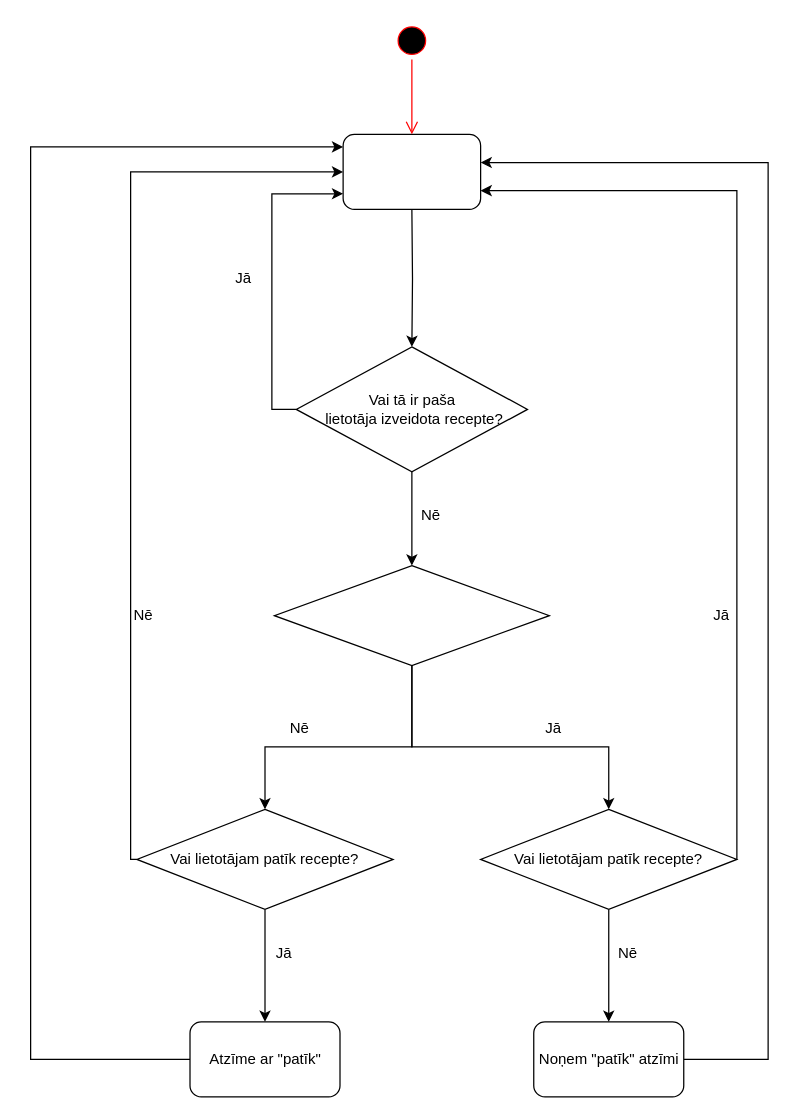
Some shapes in this 800 by 1119 pixel diagram are drawn without their labels. The centre of each missing label's shape, as x and y in pixels:
Lietotājs apskata receptes skatu: point (411, 171)
Vai recepte jau ir atzīmēta ar "patīk"?: point (411, 615)
